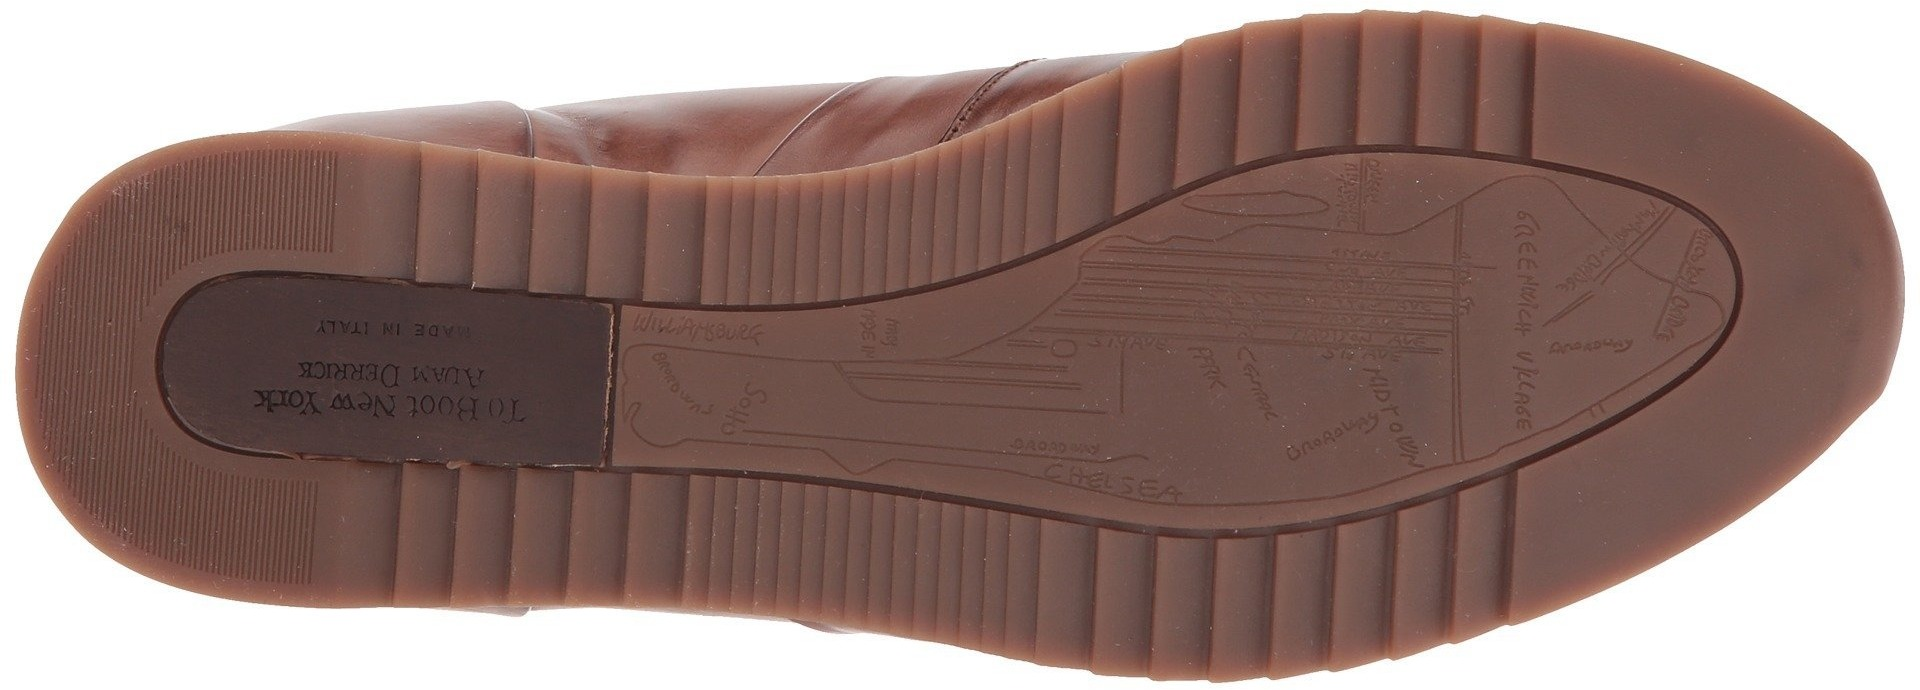circle: (397, 338, 529, 458), (249, 350, 332, 426)
line: (1296, 165, 1592, 440), (1026, 265, 1297, 522), (782, 313, 961, 478), (611, 311, 782, 471), (1254, 520, 1400, 669), (465, 153, 602, 299), (931, 510, 1064, 657), (823, 153, 956, 299), (1289, 12, 1429, 150), (1596, 201, 1727, 347), (816, 486, 940, 631), (444, 472, 579, 599), (680, 482, 816, 608), (700, 184, 823, 303)
other: (1736, 228, 1892, 387), (29, 291, 144, 410), (216, 477, 323, 585), (230, 150, 339, 254)
text: (1296, 165, 1592, 440), (1026, 265, 1297, 522), (782, 313, 961, 478), (611, 311, 782, 471), (1596, 201, 1727, 347), (397, 338, 529, 458), (320, 349, 403, 429), (249, 350, 332, 426)
